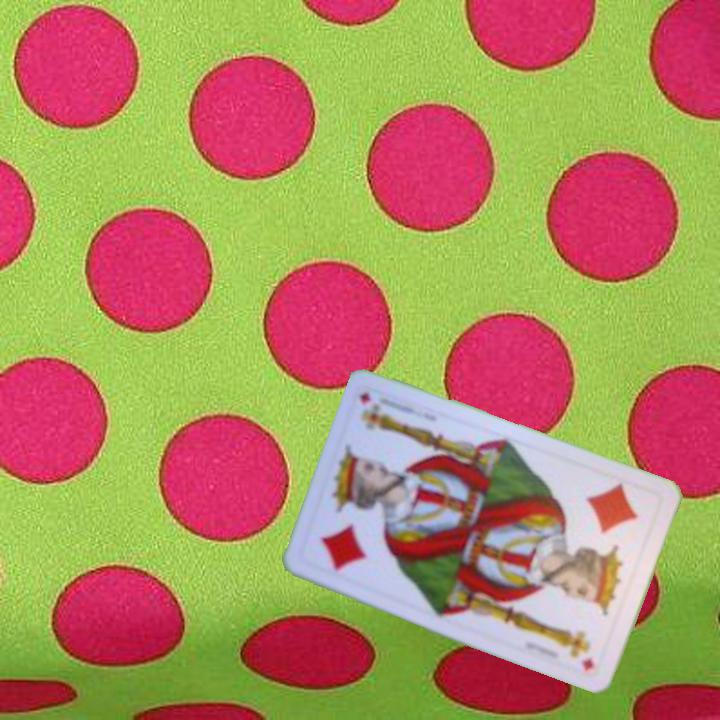d_k.png: (297, 472, 411, 594), (551, 466, 664, 588)
